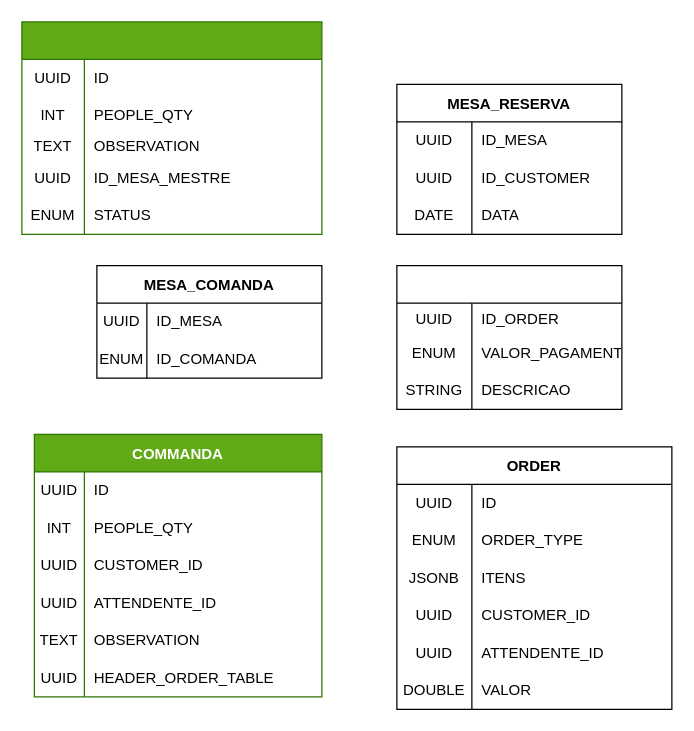
Some shapes in this 694 by 731 pixel diagram are drawn without their labels. Each missing label, with the box of its shape:
MESA->TABLE: (21, 21, 322, 234)
PAGAMENTOS: (396, 264, 622, 409)
